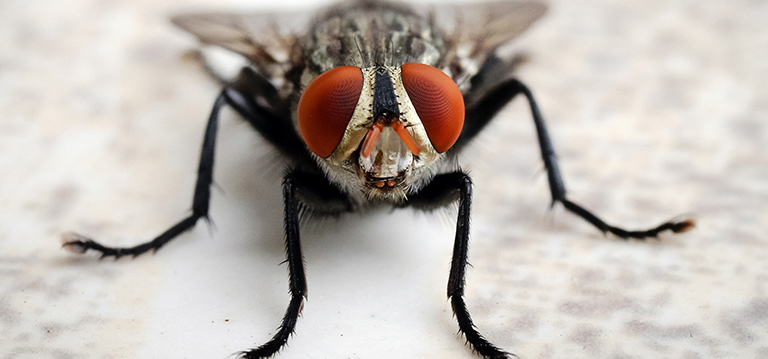fly: (66, 5, 695, 359)
